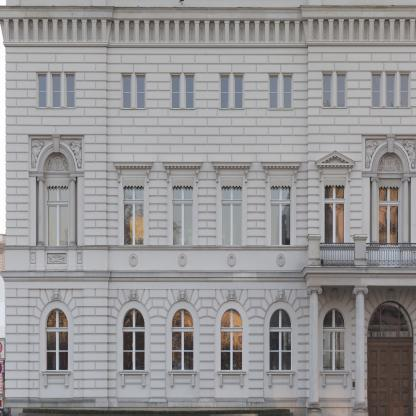Building Outline: (0, 0, 415, 416)
Cornice: (5, 0, 416, 132), (5, 147, 416, 269), (362, 135, 416, 178), (29, 135, 84, 172), (315, 150, 356, 182), (113, 161, 154, 183), (163, 161, 203, 183), (212, 161, 252, 183), (261, 161, 301, 183), (384, 289, 397, 302), (50, 289, 63, 302), (127, 289, 140, 302), (176, 289, 189, 302), (225, 289, 238, 302), (274, 289, 287, 302), (328, 288, 341, 301)
Door: (368, 337, 415, 416)
Facade: (0, 0, 416, 415)
Floor Slab: (5, 132, 416, 147), (5, 269, 416, 283)
Ground Floor: (5, 283, 416, 415)
Molding: (0, 16, 416, 48), (0, 266, 416, 282)
Pillar: (351, 285, 368, 416), (306, 285, 322, 416), (400, 176, 411, 267), (370, 177, 379, 267), (68, 176, 77, 246), (37, 177, 45, 246)
Window: (367, 300, 414, 337), (46, 180, 69, 246), (323, 308, 346, 371), (45, 308, 68, 371), (122, 308, 145, 371), (171, 308, 194, 371), (220, 308, 243, 371), (269, 308, 292, 371), (123, 180, 144, 246), (172, 180, 193, 246), (221, 180, 242, 246), (271, 180, 292, 246), (379, 180, 400, 245), (324, 179, 345, 244), (234, 75, 243, 109), (220, 75, 229, 109), (400, 74, 409, 107), (136, 75, 145, 108), (184, 76, 193, 109), (170, 76, 179, 109), (283, 75, 292, 108), (269, 75, 278, 108), (122, 75, 131, 108), (323, 74, 332, 107), (372, 74, 381, 107), (386, 74, 395, 107), (38, 74, 46, 108), (66, 74, 74, 108), (52, 74, 60, 108), (337, 74, 345, 107)
